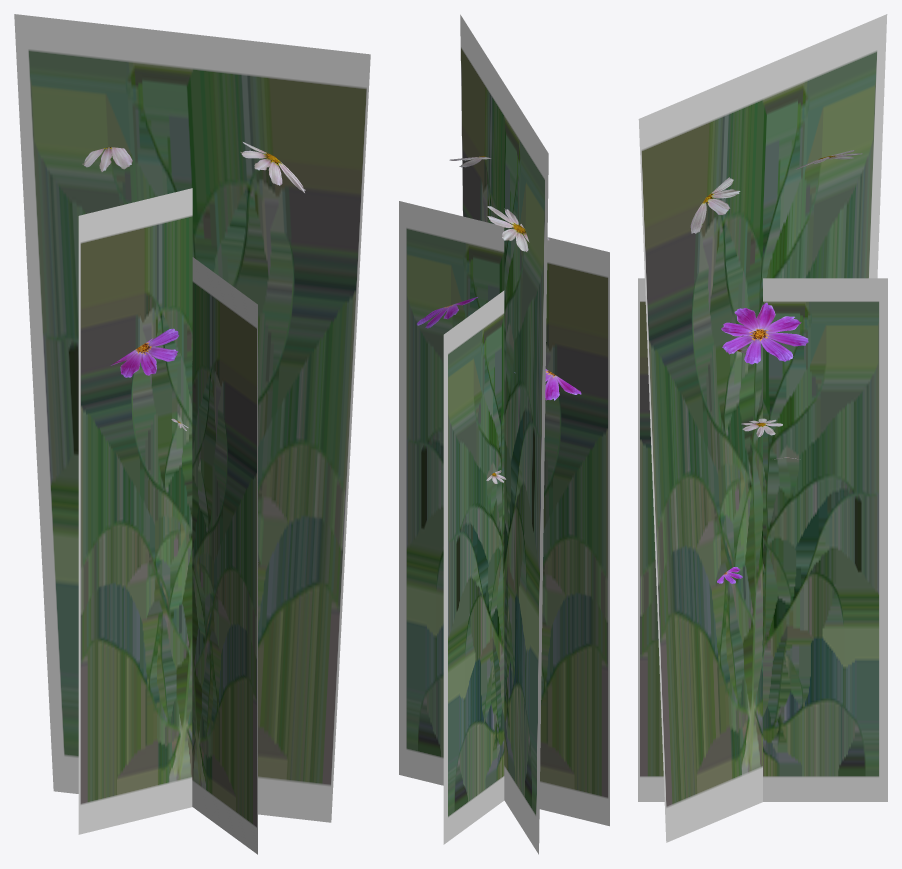
File: flower_lowpoly.fbx
3 views of the same model, side by side, from view 1: azimuth 30°, elevation 25°; view 2: azimuth 150°, elevation 25°; view 3: azimuth 270°, elevation 25° (orthographic). The views are drawn at different scales.
Visible parts, largest first — view 1: Flower_Whi_Purp; view 2: Flower_Whi_Purp; view 3: Flower_Whi_Purp.
Part boxes in pixels (x1,y1,x2,y2): Flower_Whi_Purp: (14,14,370,854); Flower_Whi_Purp: (399,14,609,854); Flower_Whi_Purp: (638,14,887,842).
Size of the model in its own units: 75.67 by 246 by 75.67.
3 materials, 3 textured.
